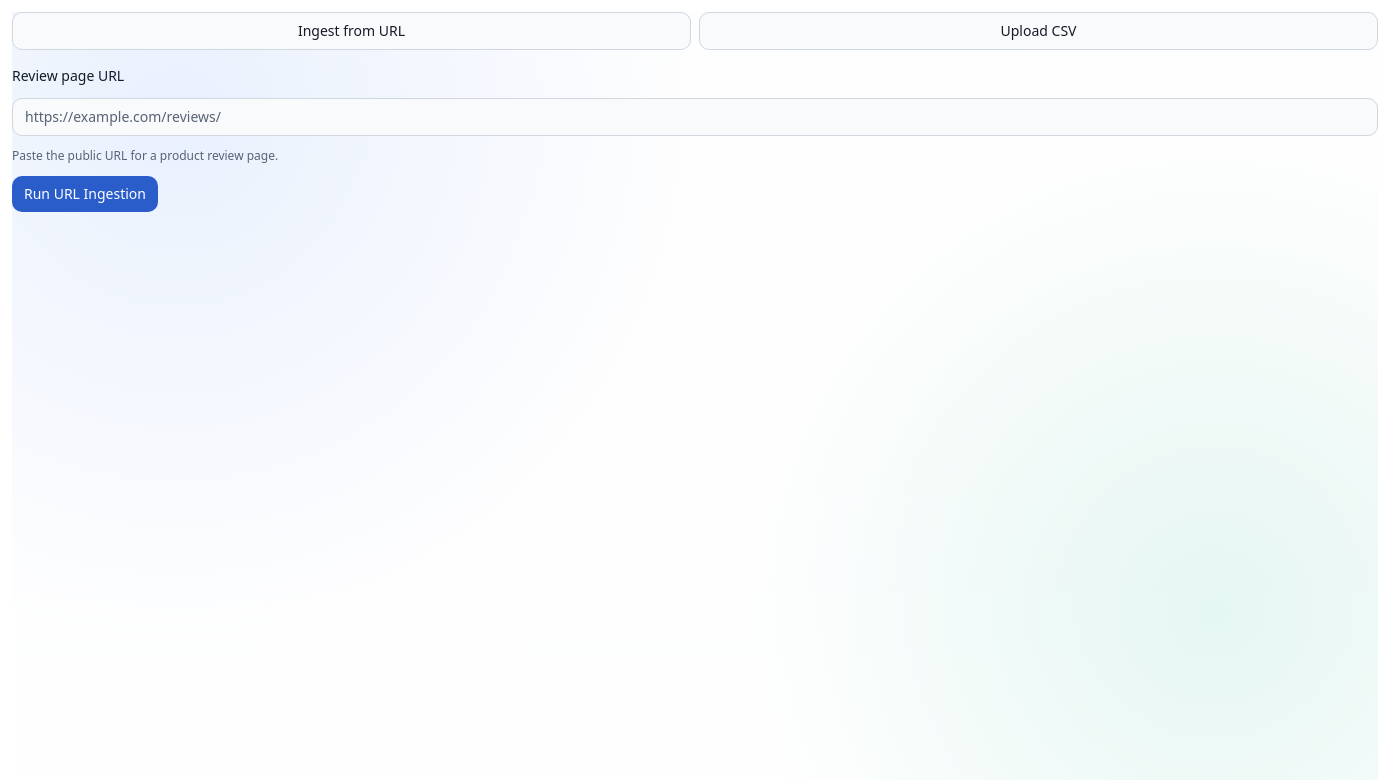
Test case: IngestionPanel › shows a helpful message when request times out
Type "https://www.reviews.example.com/p/147795/Coveragebook-com/reviews/" into the field labelled "Review page URL" at (695, 117), box [12,98,1378,136]
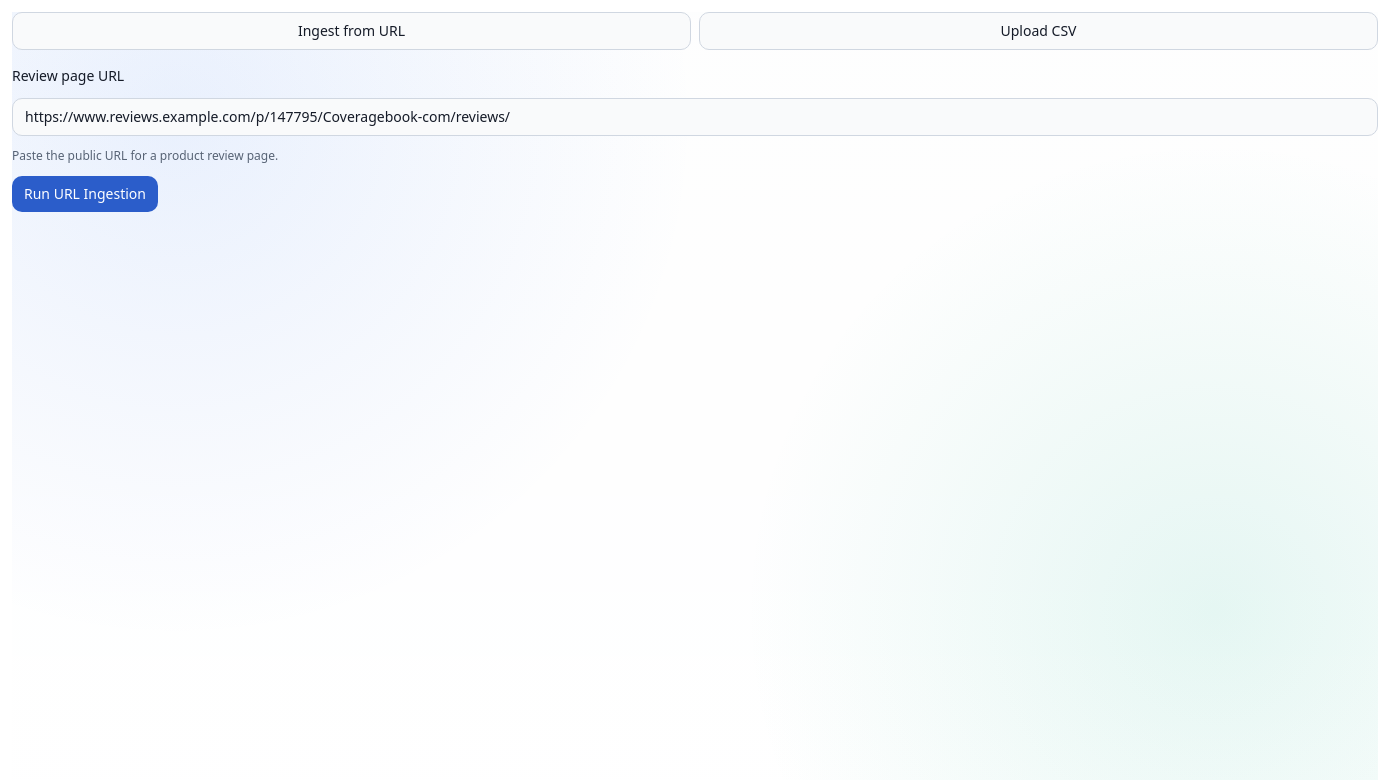
Click the button "Run URL Ingestion" at (85, 194), box [12,176,158,212]
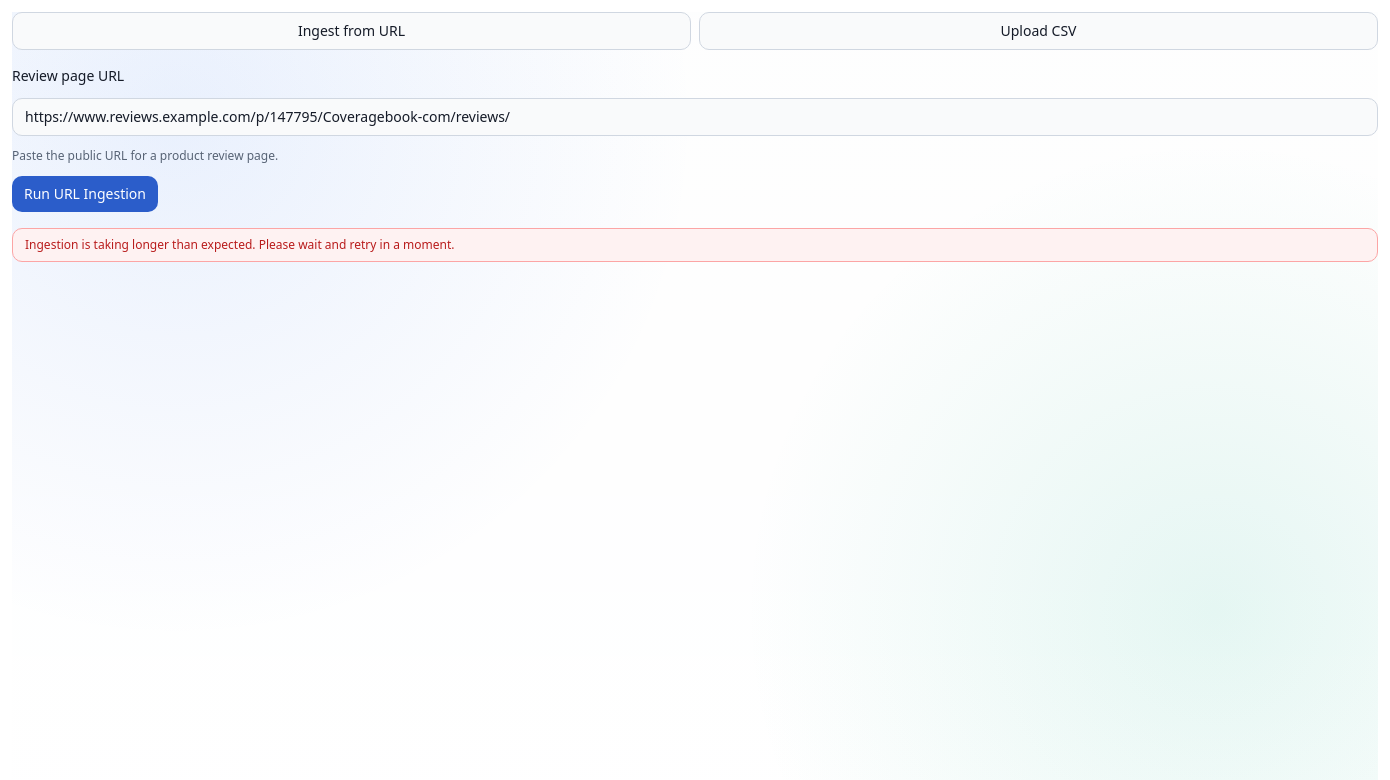
Now the text "Ingestion is taking longer than expected. Please wait and retry in a moment." is shown, box [12,228,1378,262]
